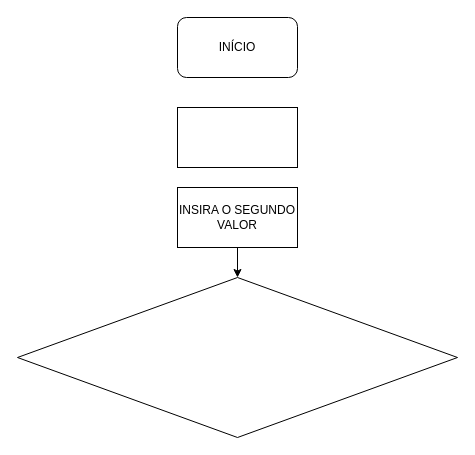
This 475x455 diagram has some shape labels left out. Each missing label, with the centre of its shape:
A DIVISÃO DO PRIMEIRO VALOR COM O SEGUNDO VALOR INSERIDO É MA: [237,357]
INSIRA O PRIMEIRO VALOR: [237,137]
